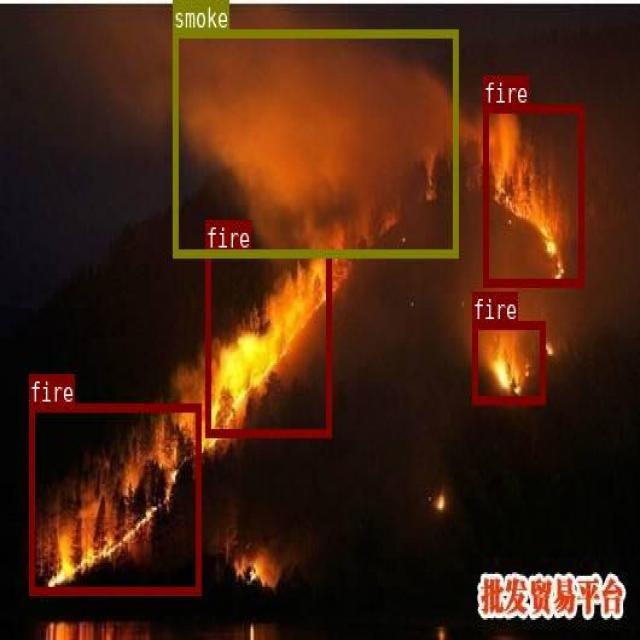fire: (29, 403, 200, 594), (205, 249, 330, 435), (483, 103, 583, 285), (472, 320, 544, 404)
smoke: (172, 28, 457, 255)
